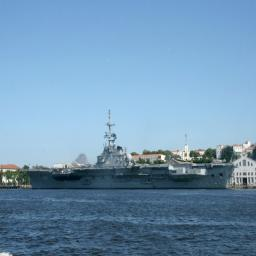Portanaves: (23, 107, 239, 192)
